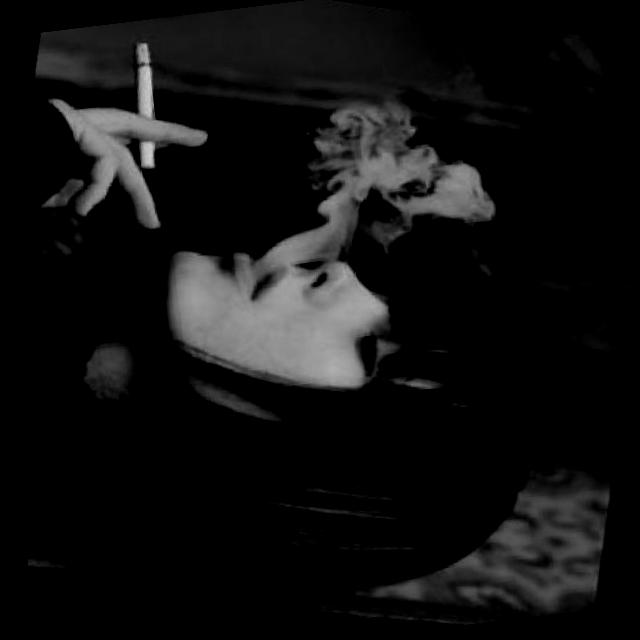cigarette: (95, 33, 185, 177)
